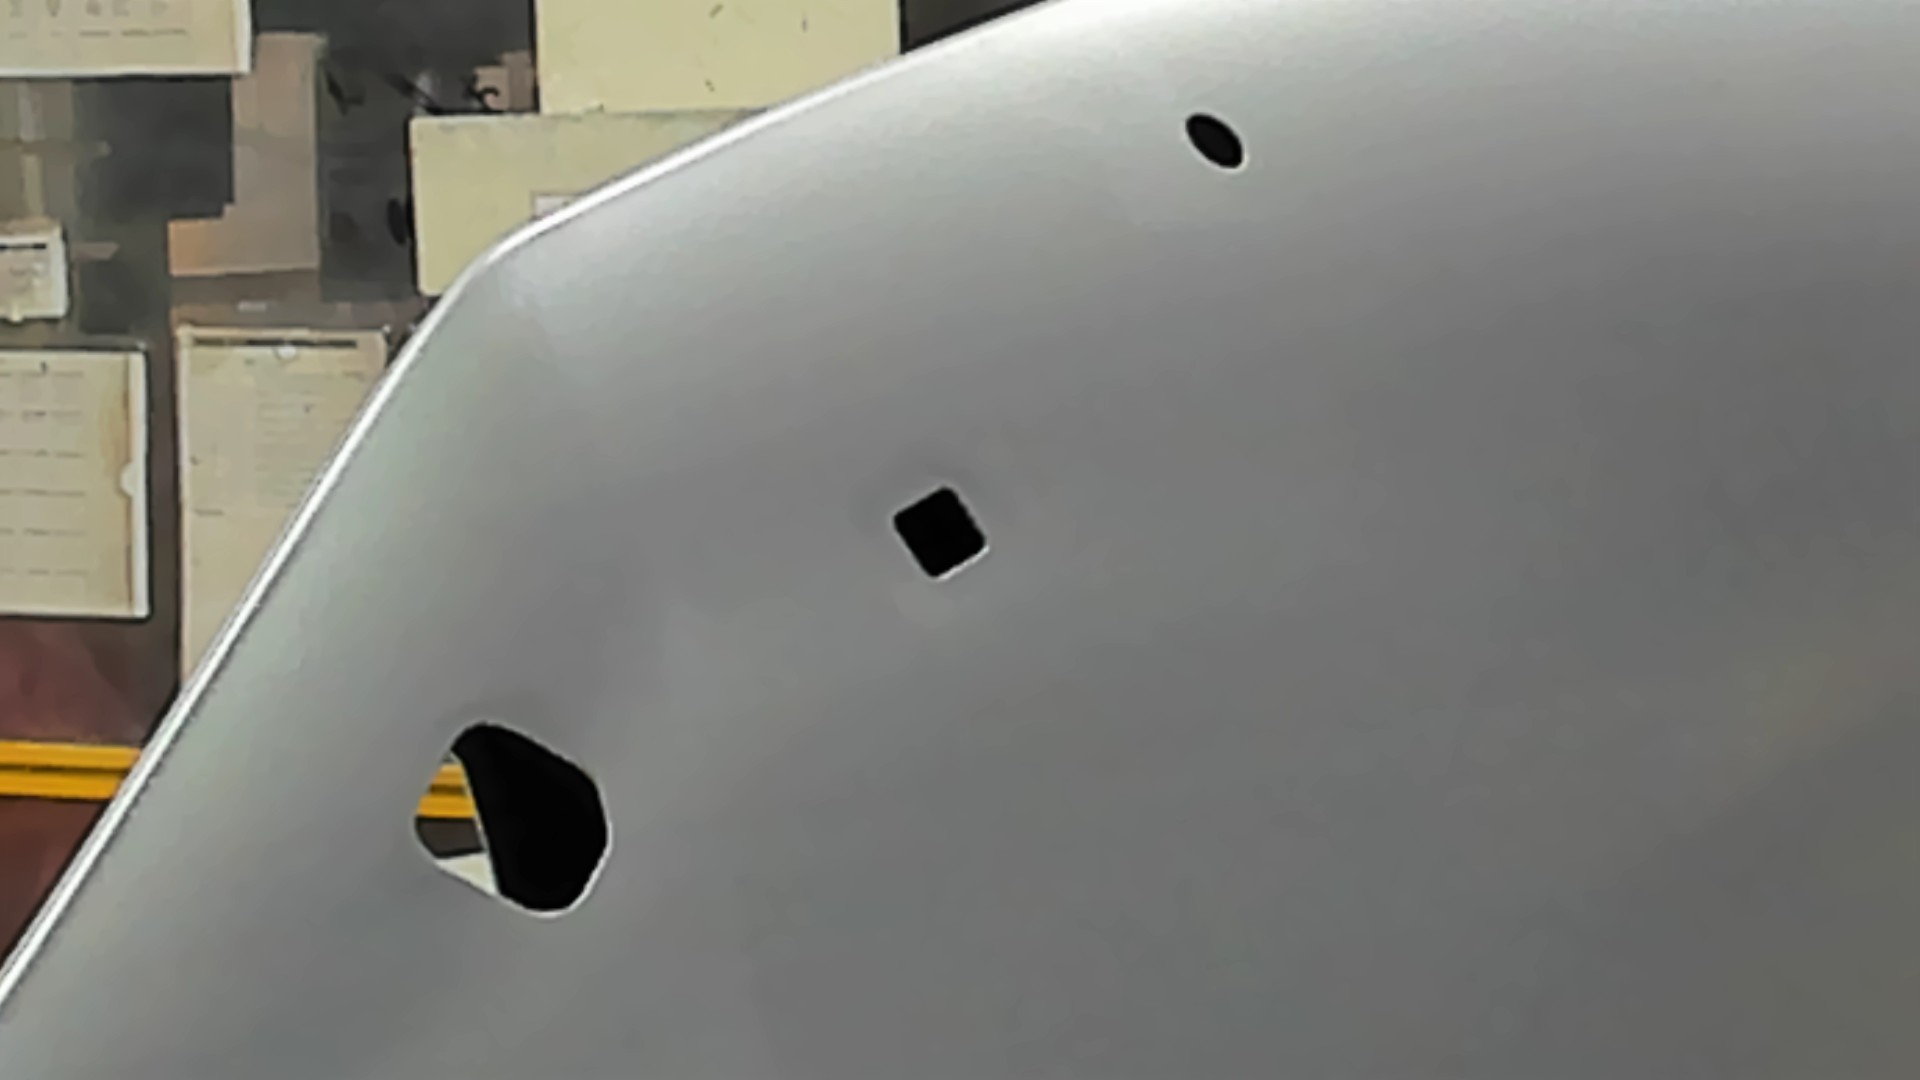chico: (1180, 105, 1251, 177)
grande: (410, 717, 618, 923)
mediano: (887, 483, 993, 585)
